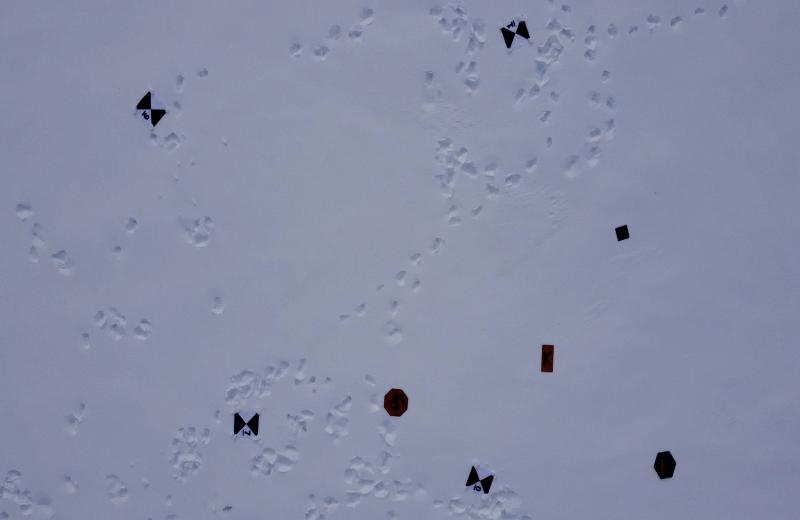Octagon: (382, 386, 409, 418)
Rectangle: (537, 340, 556, 376)
Square: (612, 222, 632, 243)
